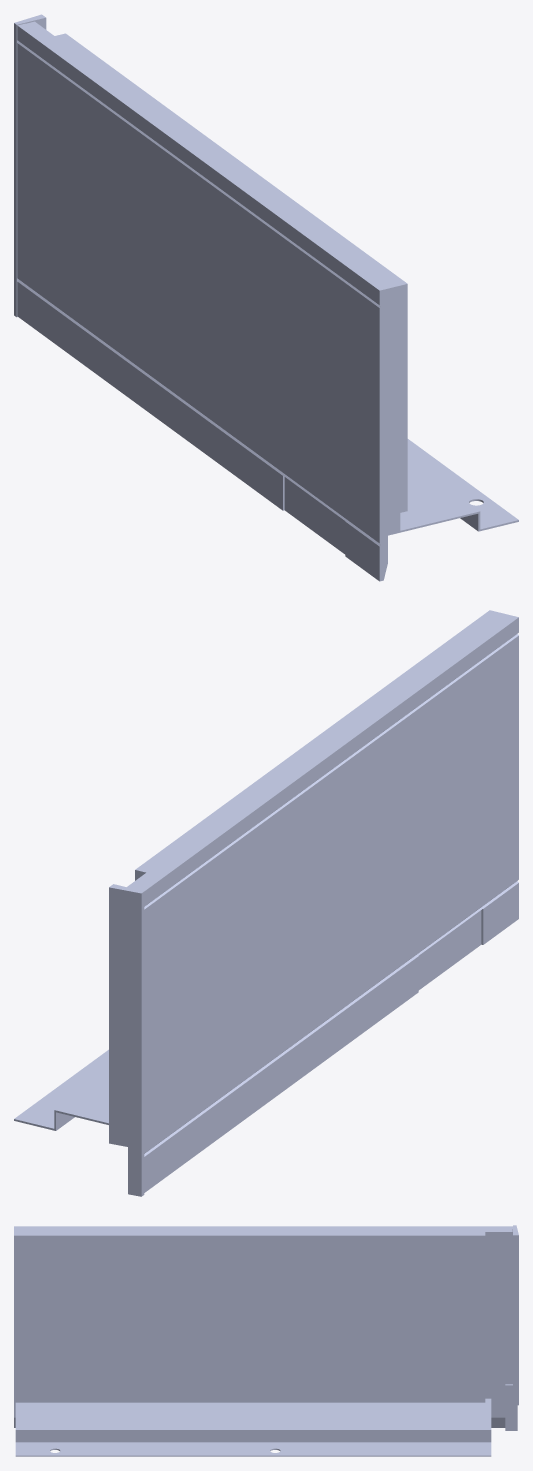
File: lg-kava-K300-p.glb
3 renders of one model, top to bottom at view 1: azimuth 30°, elevation 25°; view 2: azimuth 150°, elevation 25°; view 3: azimuth 270°, elevation 25°, orthographic. The views are drawn at different scales.
Visible parts, largest first — view 1: 47294950; view 2: 47294950; view 3: 47294950.
Boxes of the visible parts, x1,y1,x2,y2 form: 47294950: (14,14,518,581); 47294950: (14,610,518,1196); 47294950: (14,1225,518,1456).
Size of the model in its own units: 0.0653 by 0.1292 by 0.2935.
